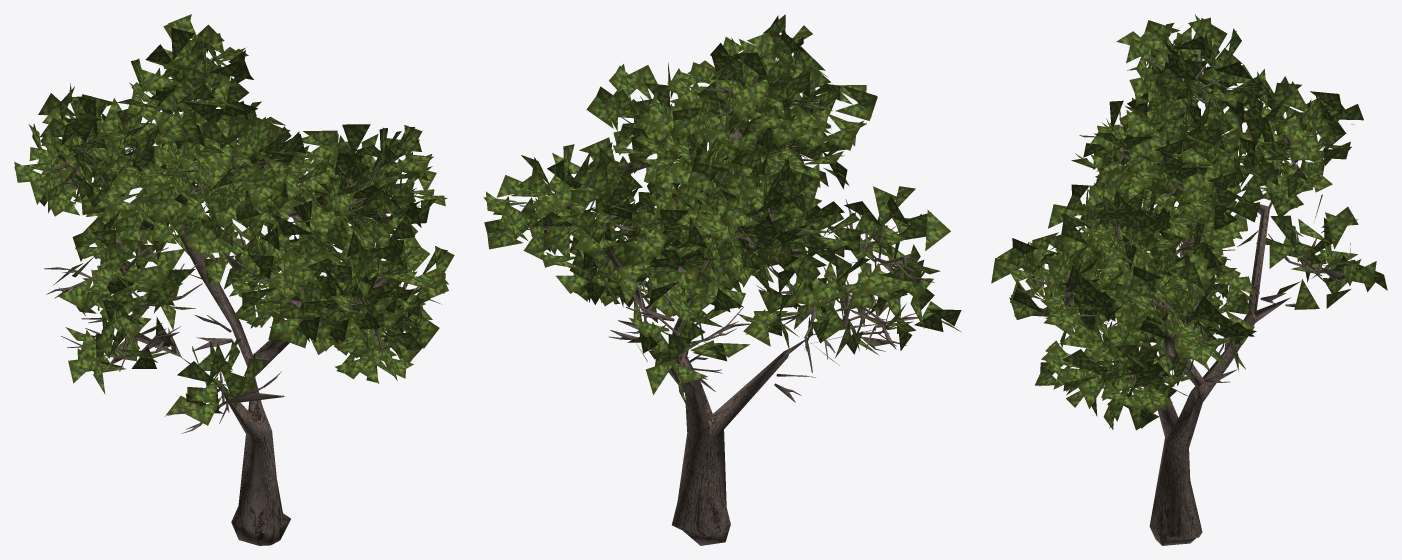
The model's file is realistic-tree.glb.
3 renders of one model, left to right at view 1: azimuth 30°, elevation 25°; view 2: azimuth 150°, elevation 25°; view 3: azimuth 270°, elevation 25°, orthographic. The views are drawn at different scales.
Parts seen in each view (by area): view 1: crown merged, trunk_low, br_low; view 2: crown merged, trunk_low, br_low; view 3: crown merged, trunk_low, br_low.
Boxes of the visible parts, x1,y1,x2,y2 form: crown merged: (14, 14, 454, 425); trunk_low: (92, 167, 380, 545); br_low: (44, 58, 419, 433); crown merged: (483, 14, 961, 404); trunk_low: (604, 162, 881, 545); br_low: (519, 57, 934, 402); crown merged: (991, 14, 1387, 430); trunk_low: (1078, 162, 1291, 545); br_low: (1029, 49, 1347, 388).
Size of the model in its own units: 13.39 by 15.97 by 11.6.
2 materials, 2 textured.
